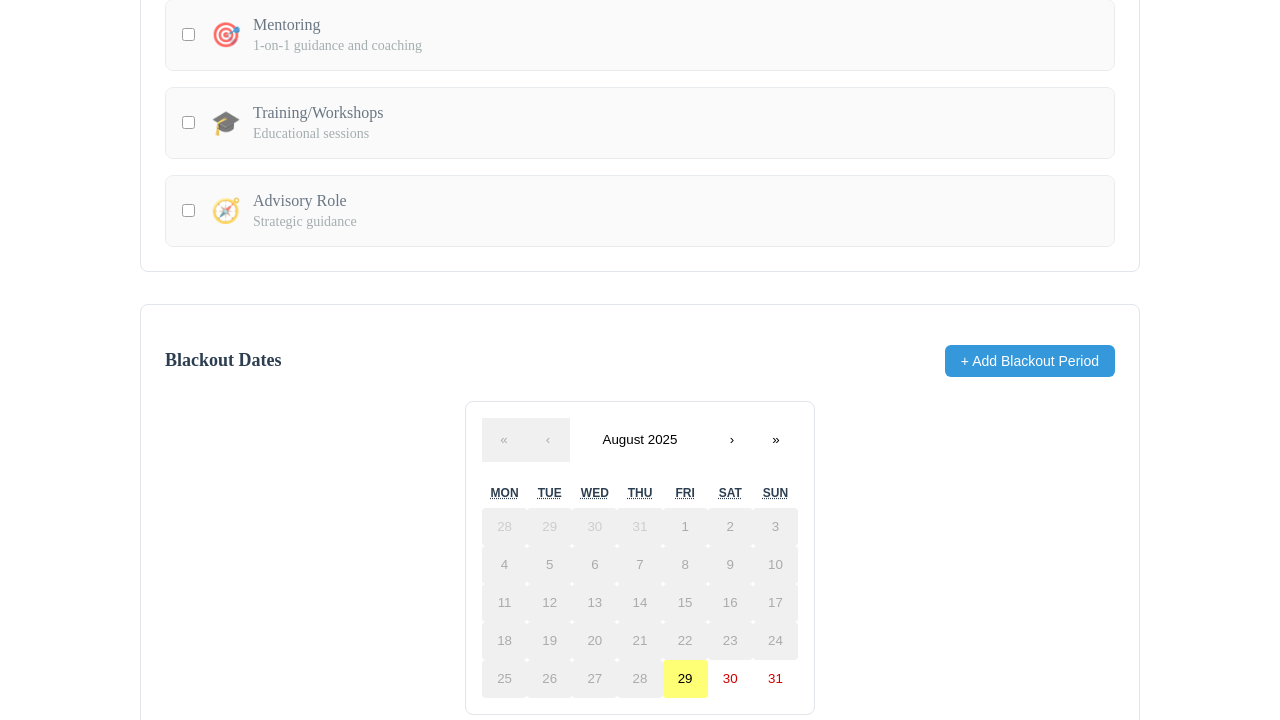
it: AvailabilityStep Component › Blackout Dates Management › allows adding blackout periods
(page scrolled)
Click the button "+ Add Blackout Period": (1030, 361) [945,345,1115,377]
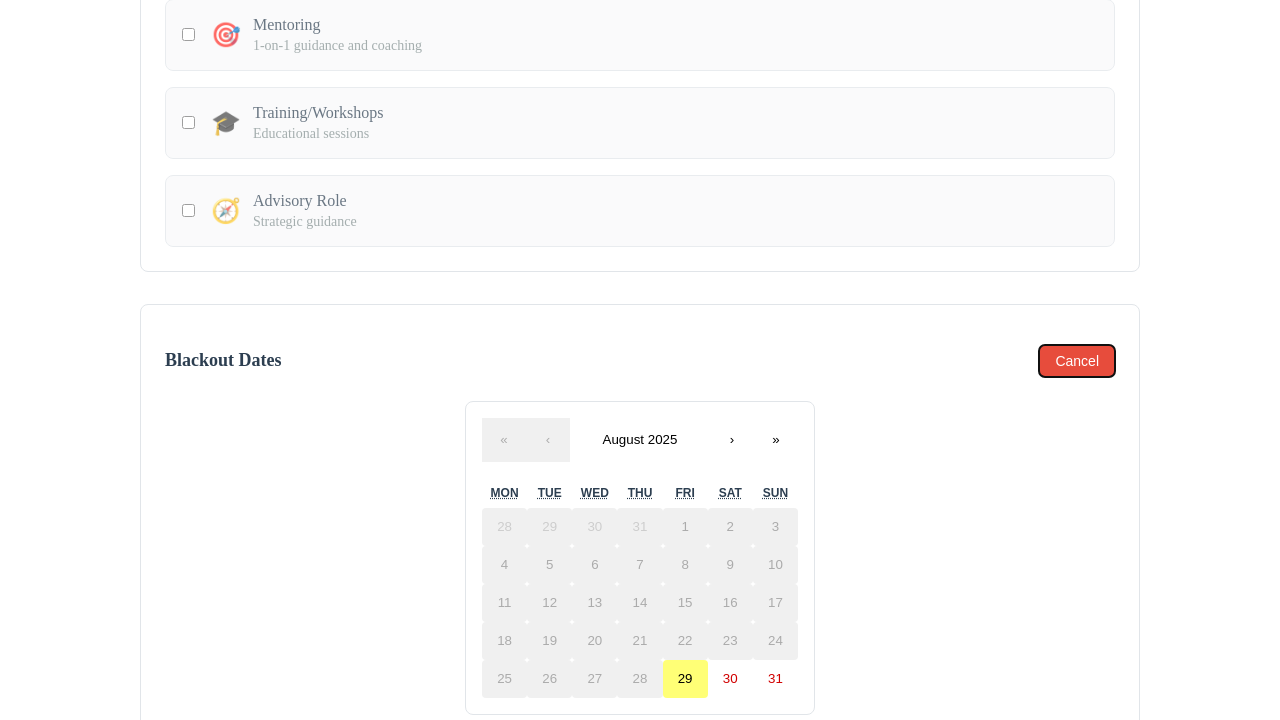
Expected: the button "Cancel" is shown, [1039,345,1115,377]
